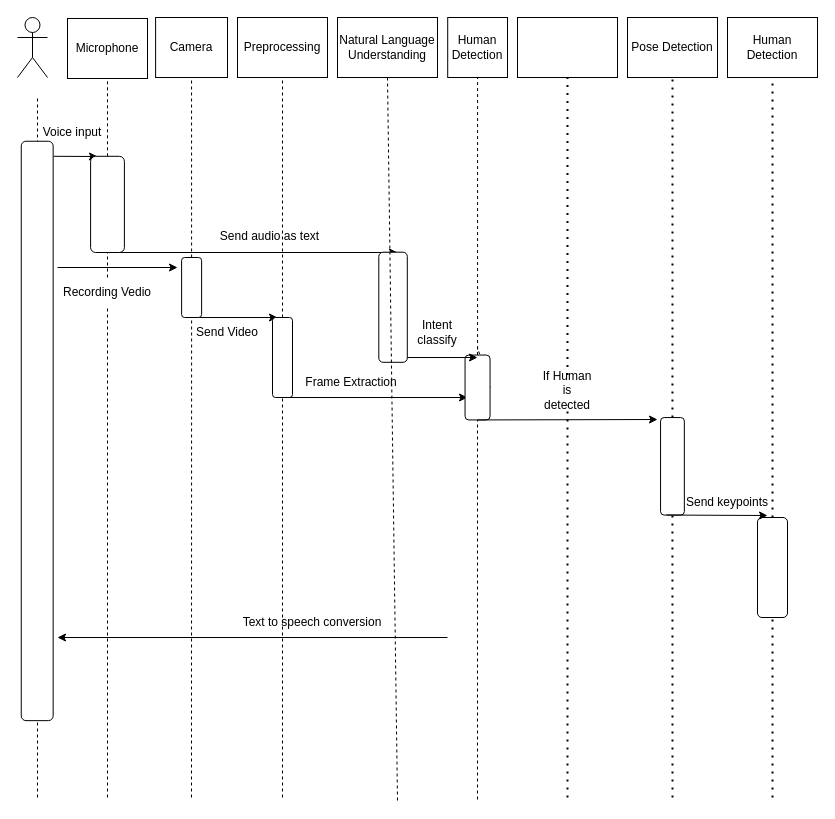
The diagram is 835 pixels wide and 819 high, and some of its shapes have lost their labels. Here are the shapes that lost their labels. From the top down, the centre of each, then its label:
At [32,47]: "User".
At [567,47]: "Natural language Gernation".
